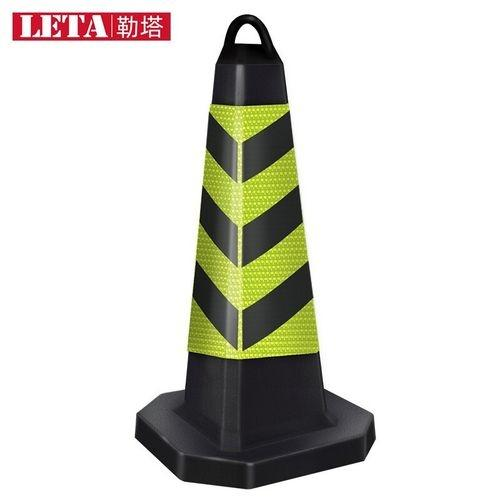cone_barrel: (150, 19, 352, 467)
